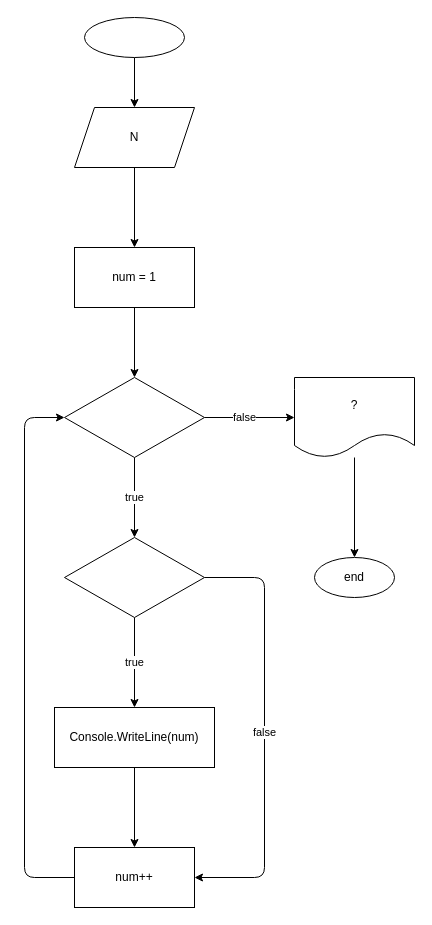
Image size: 432x925. Some labels were removed from this diagram. The shapes that lost their labels are listed below. From the top down, each one's centre as x and y in pixels, then its label:
point 134,37: start
point 134,417: num <= N
point 134,577: num % 2 == 0
